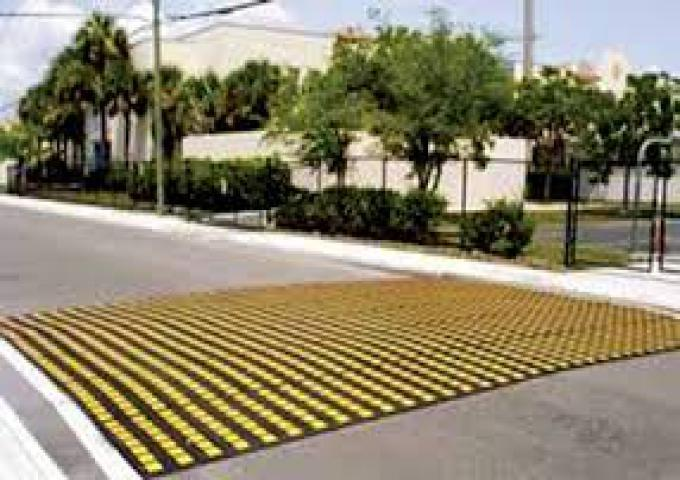speedbreaker: (0, 267, 678, 475)
